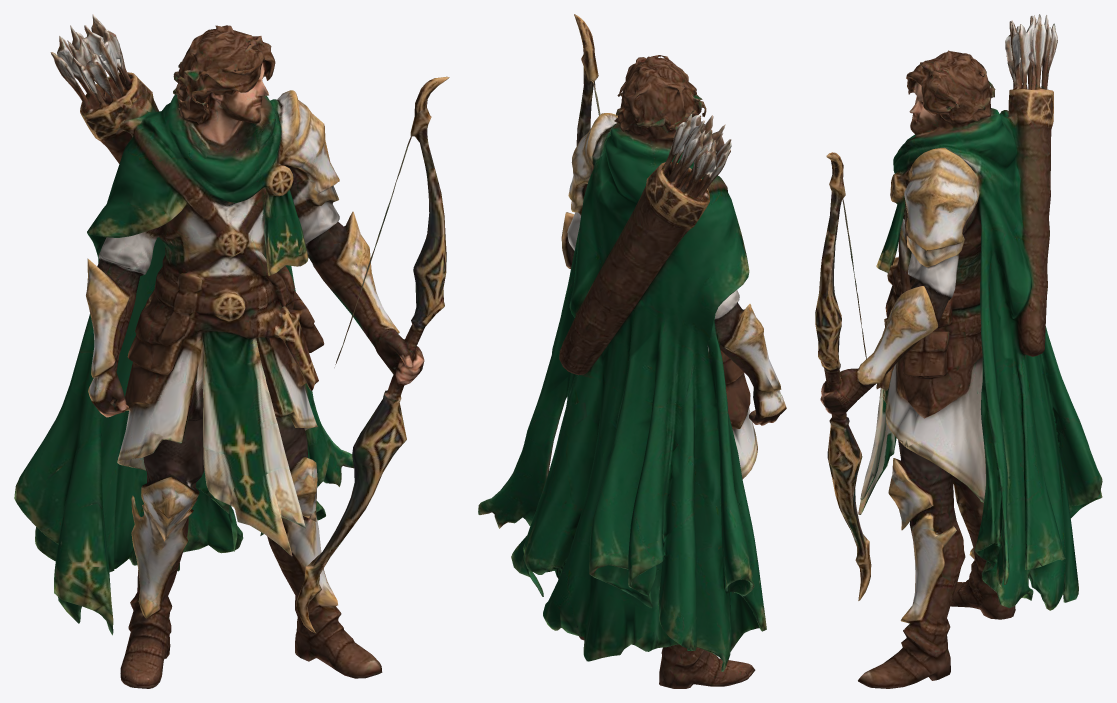
Rendered from green-archer.glb.
The picture shows the model from 3 angles, left to right: view 1: azimuth 30°, elevation 25°; view 2: azimuth 150°, elevation 25°; view 3: azimuth 270°, elevation 25°; orthographic projection. The views are drawn at different scales.
Bounding box in the file's own units: 0.9847 × 1.9 × 0.8409.
1 material, 1 textured.
